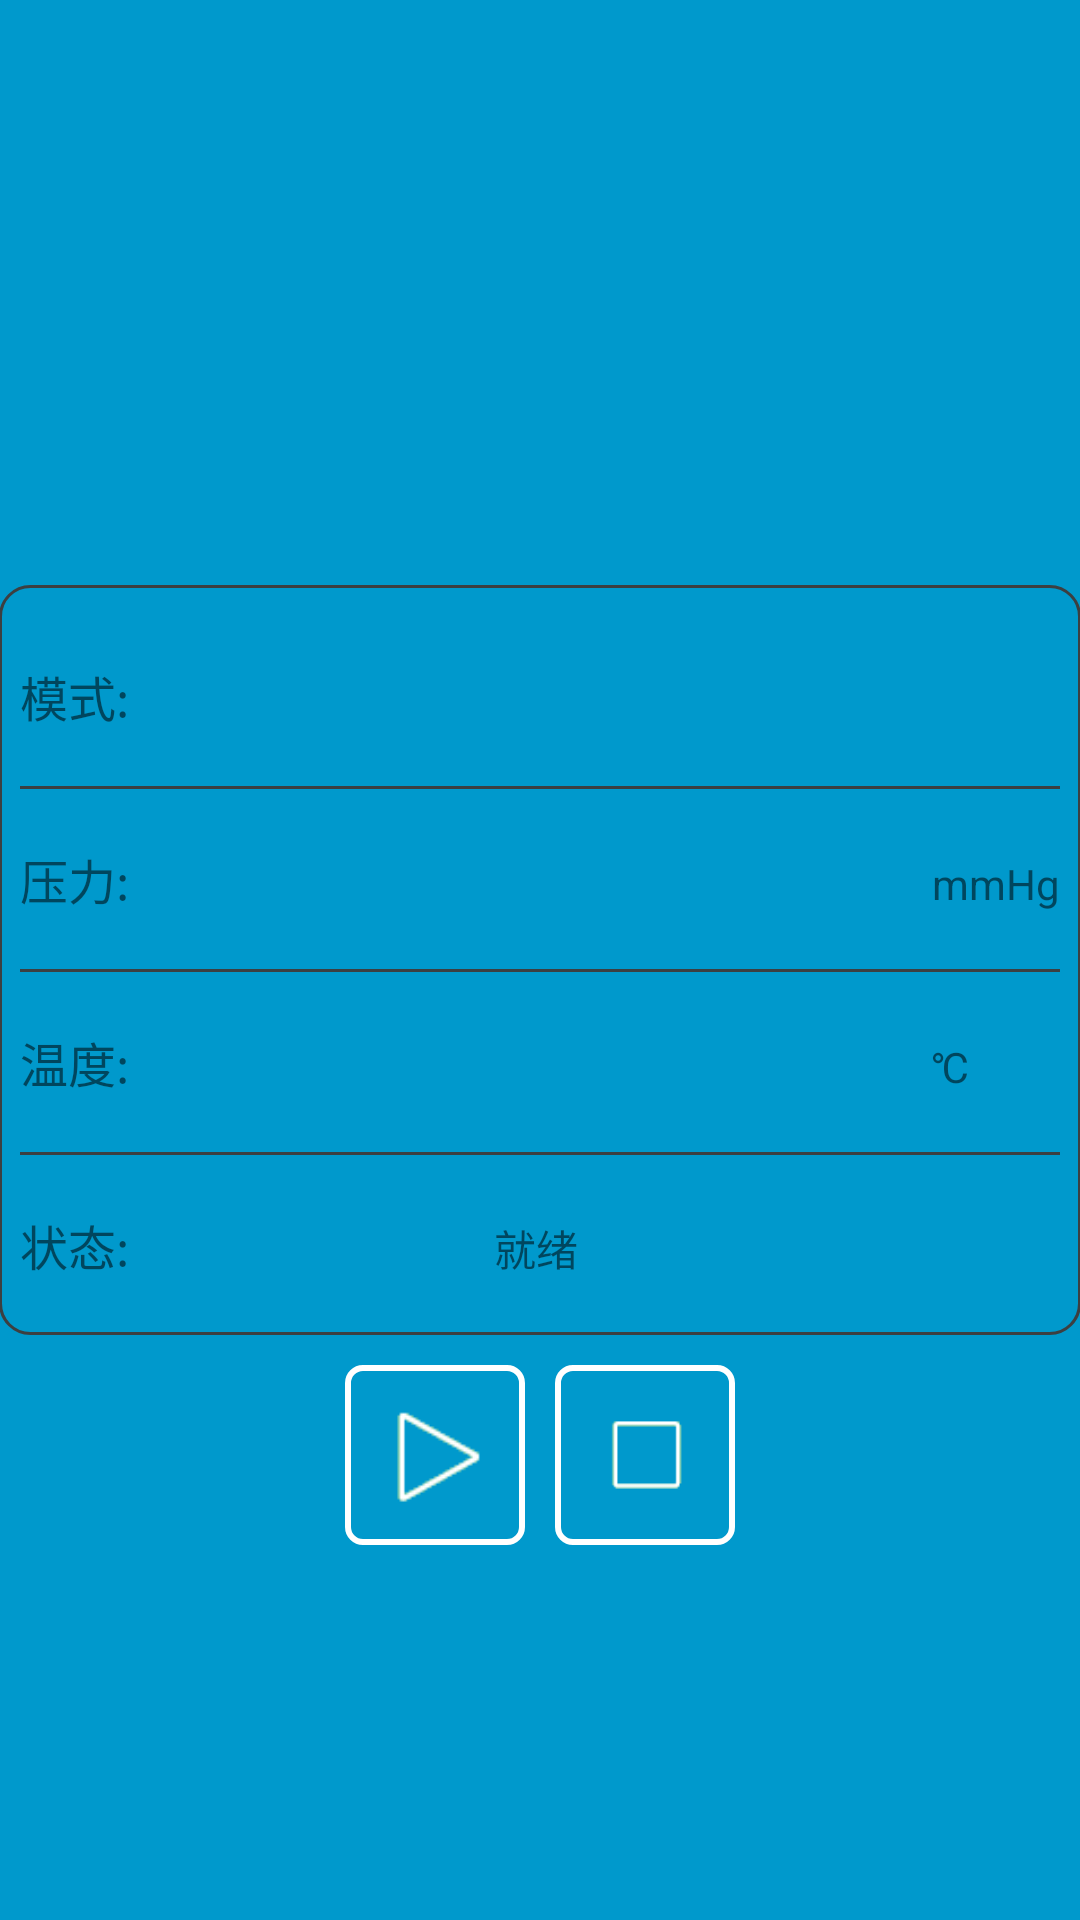

Locate icon controls on the screen. Image size 1080×1920, boxes as (x1, y1, x2, y2).
start: (345, 1365, 525, 1545)
stop: (555, 1365, 735, 1545)
